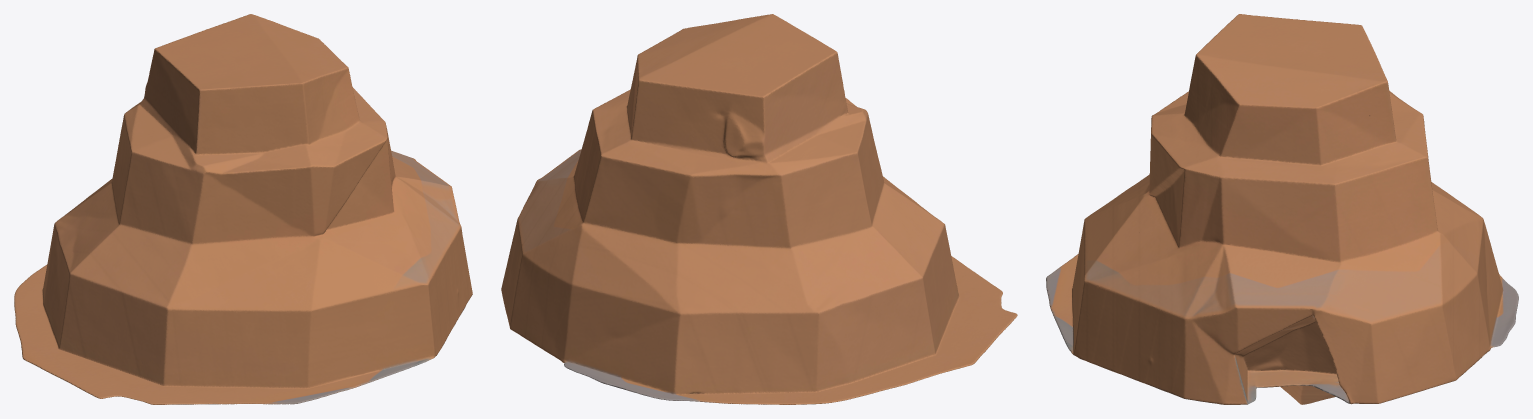
Rendered from Rock3D.fbx.
3 views of the same model, side by side, from view 1: azimuth 30°, elevation 25°; view 2: azimuth 150°, elevation 25°; view 3: azimuth 270°, elevation 25° (orthographic). The views are drawn at different scales.
Visible parts, largest first — view 1: tripo_node_bc6670ed; view 2: tripo_node_bc6670ed; view 3: tripo_node_bc6670ed.
Part boxes in pixels (x1=…): tripo_node_bc6670ed: x1=14, y1=14, x2=472, y2=404; tripo_node_bc6670ed: x1=501, y1=14, x2=1017, y2=404; tripo_node_bc6670ed: x1=1046, y1=14, x2=1518, y2=404.
Size of the model in its own units: 1 by 0.7338 by 0.94.
